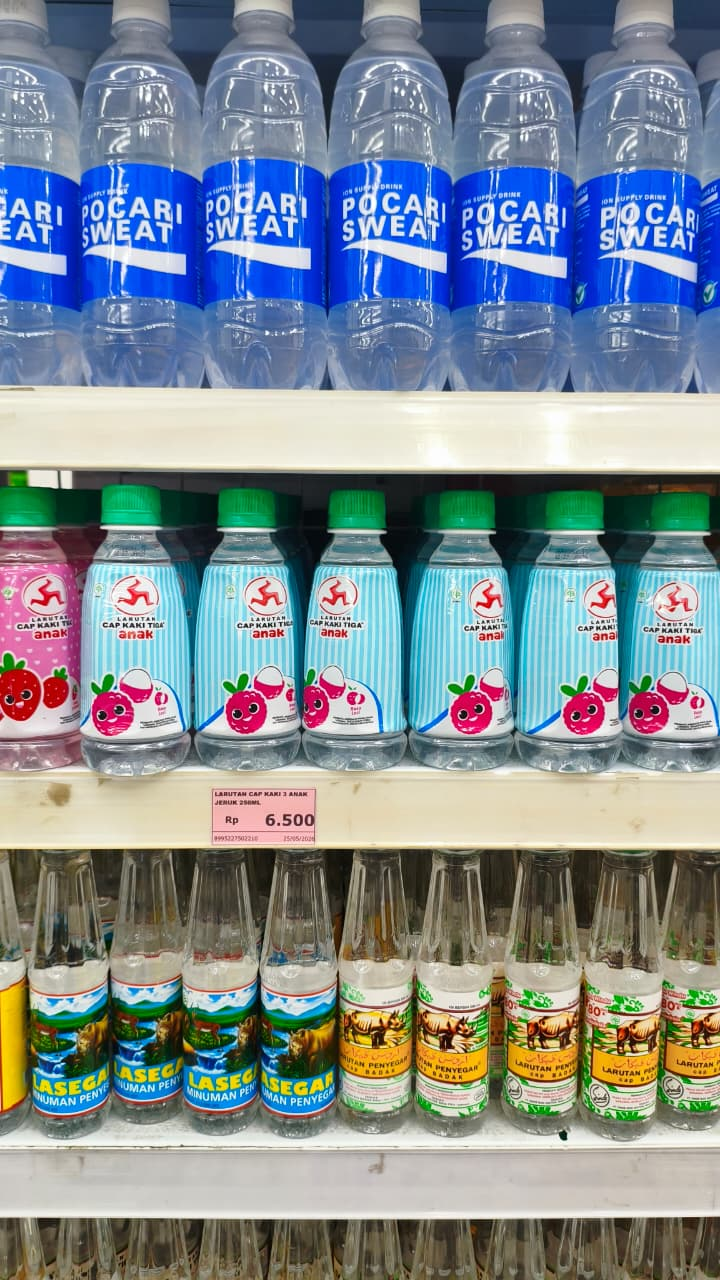Pocari sweat: (67, 162, 202, 316), (323, 157, 458, 311)
